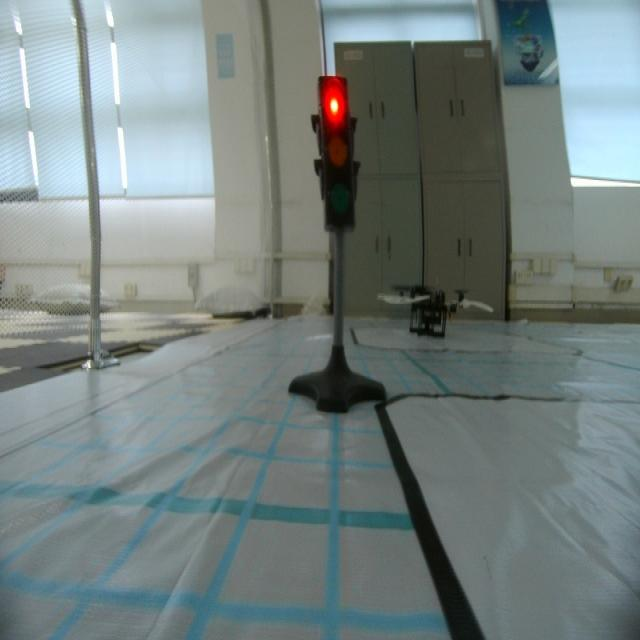red: (311, 67, 362, 235)
